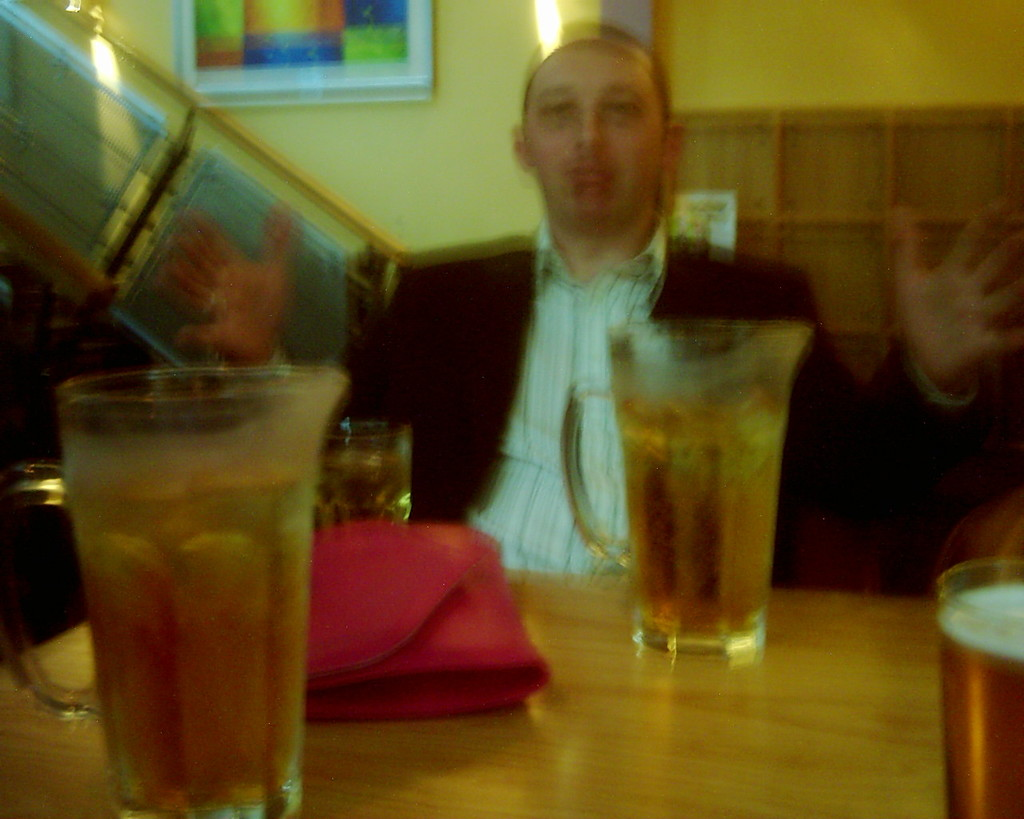Beer: (6, 352, 349, 818), (551, 311, 788, 695), (916, 556, 1023, 818)
